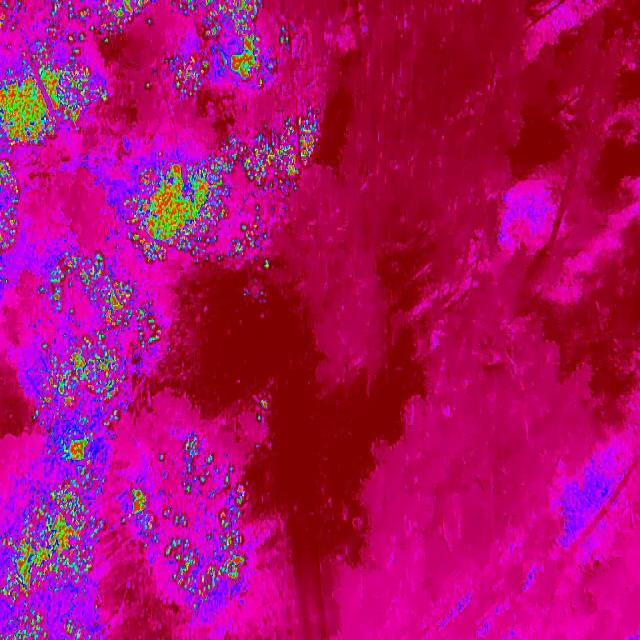fire: (3, 483, 104, 639), (32, 350, 138, 472), (44, 252, 170, 349), (171, 0, 282, 102), (0, 59, 106, 155), (136, 166, 232, 269), (236, 115, 336, 193), (164, 529, 258, 606), (45, 0, 157, 54), (232, 200, 274, 274), (0, 164, 23, 256), (212, 476, 252, 526), (125, 487, 152, 521), (182, 434, 204, 464), (140, 74, 157, 96), (0, 0, 8, 28), (257, 398, 271, 413)
